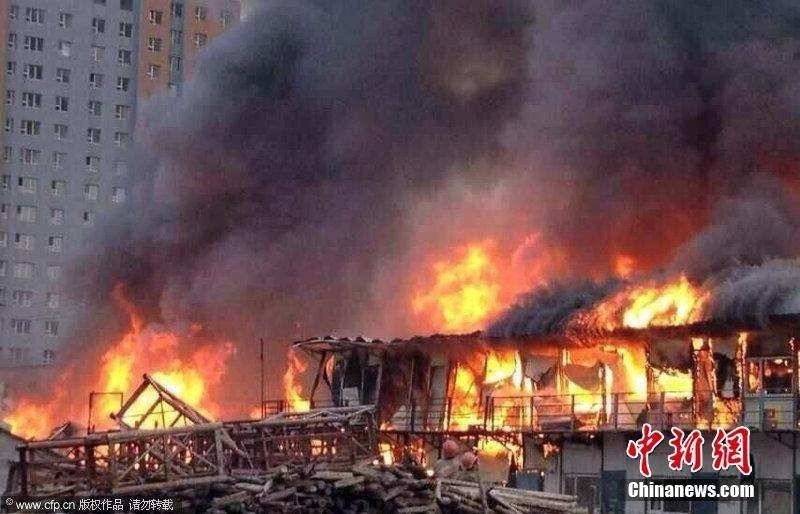fire: (425, 246, 717, 461), (0, 294, 231, 440), (281, 351, 314, 413)
